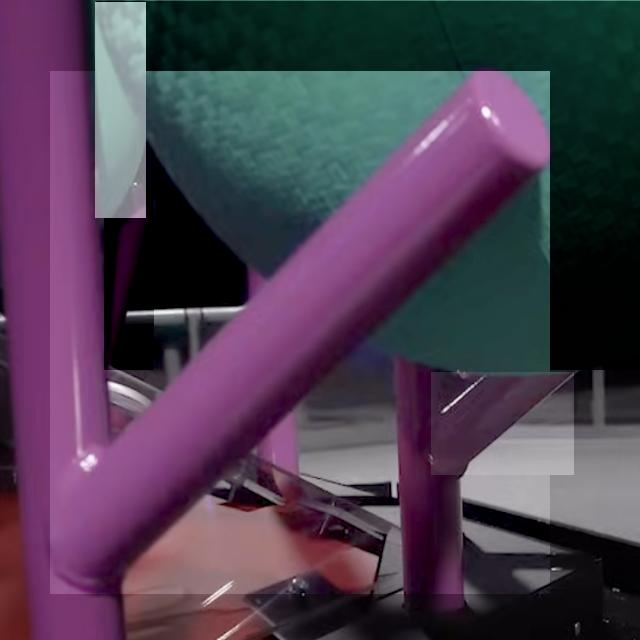Algae: (96, 1, 640, 370), (95, 2, 146, 218)
Reef: (50, 71, 550, 594), (431, 372, 574, 475), (104, 180, 154, 370)
